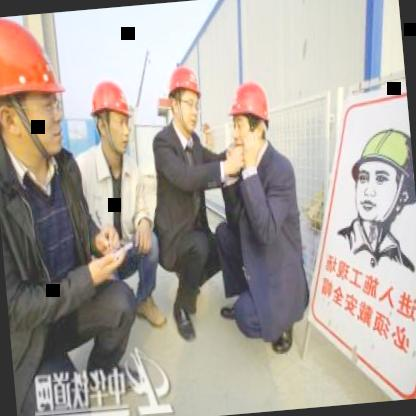helmet: (0, 12, 73, 165), (226, 73, 275, 159), (87, 78, 136, 160), (162, 59, 207, 142)
